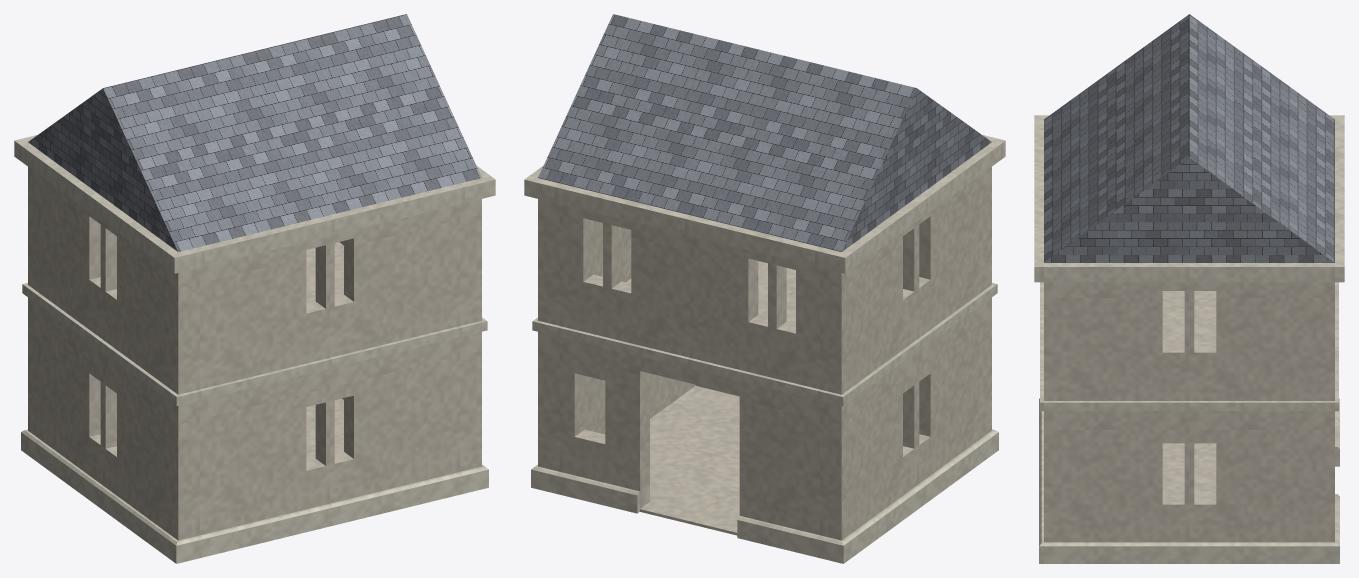
File: house_a.glb
The picture shows the model from 3 angles, left to right: view 1: azimuth 30°, elevation 25°; view 2: azimuth 150°, elevation 25°; view 3: azimuth 270°, elevation 25°; orthographic projection. The views are drawn at different scales.
Visible parts, largest first — view 1: body_plaster, roof_slate, trim_plaster; view 2: body_plaster, roof_slate, trim_plaster; view 3: body_plaster, roof_slate, trim_plaster.
Part boxes in pixels (x1,y1,x2,y2): body_plaster: (28, 167, 481, 540); roof_slate: (28, 14, 481, 251); trim_plaster: (14, 135, 495, 563); body_plaster: (538, 167, 991, 540); roof_slate: (538, 14, 991, 251); trim_plaster: (524, 135, 1005, 563); body_plaster: (1044, 282, 1334, 542); roof_slate: (1044, 14, 1334, 262); trim_plaster: (1034, 115, 1344, 563).
Size of the model in its own units: 7.4 by 9.2 by 6.4.
Materials: 3 (3 with a texture image).
